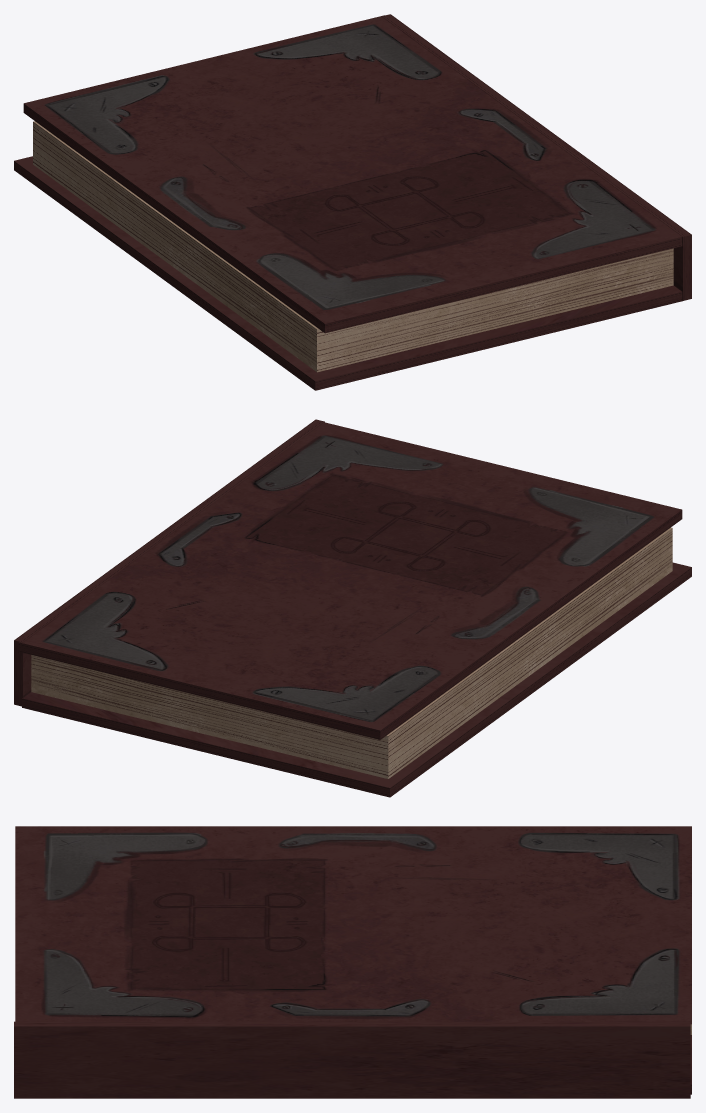
Rendered from gunluk_kapal - Copy.fbx.
3 views of the same model, one above another, from view 1: azimuth 30°, elevation 25°; view 2: azimuth 150°, elevation 25°; view 3: azimuth 270°, elevation 25° (orthographic). The views are drawn at different scales.
Visible parts, largest first — view 1: Cube.003, Cube.004, Cube.006; view 2: Cube.003, Cube.004, Cube.006; view 3: Cube.003, Cube.006.
Part boxes in pixels (<box>): Cube.003: <box>23,15,682,364</box>; Cube.004: <box>14,121,682,390</box>; Cube.006: <box>382,14,691,300</box>; Cube.003: <box>18,422,682,773</box>; Cube.004: <box>22,527,691,797</box>; Cube.006: <box>14,419,324,706</box>; Cube.003: <box>15,826,691,1034</box>; Cube.006: <box>14,1021,690,1098</box>.
Size of the model in its own units: 208 by 34.25 by 289.
Materials: 7 (7 with a texture image).
